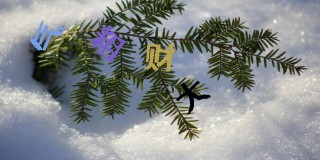大: (174, 81, 212, 115)
气: (30, 21, 63, 51)
粗: (89, 25, 126, 62)
财: (145, 42, 177, 74)
